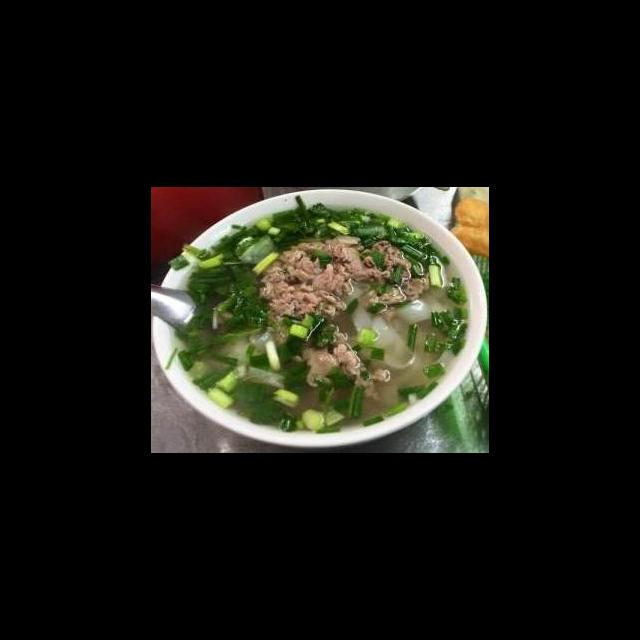banh pho: (346, 286, 434, 368)
pho bo: (188, 211, 487, 453)
thit bo: (256, 230, 435, 326), (297, 332, 395, 397)
